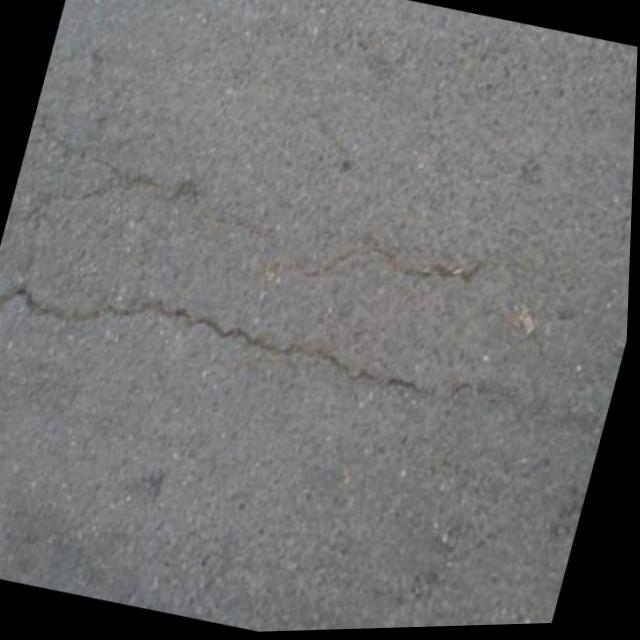Crack: (0, 239, 459, 429)
